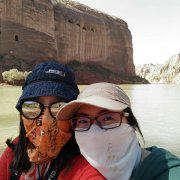OK: (76, 106, 134, 164), (23, 98, 75, 149)
